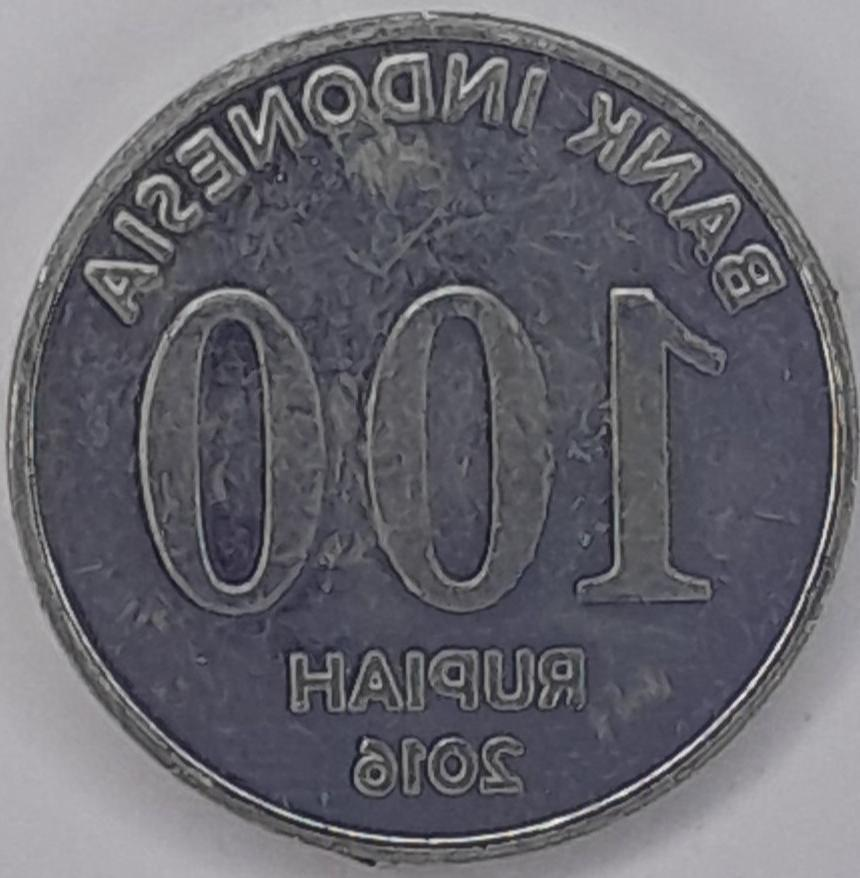coin_100_e2016: (0, 4, 859, 866)
